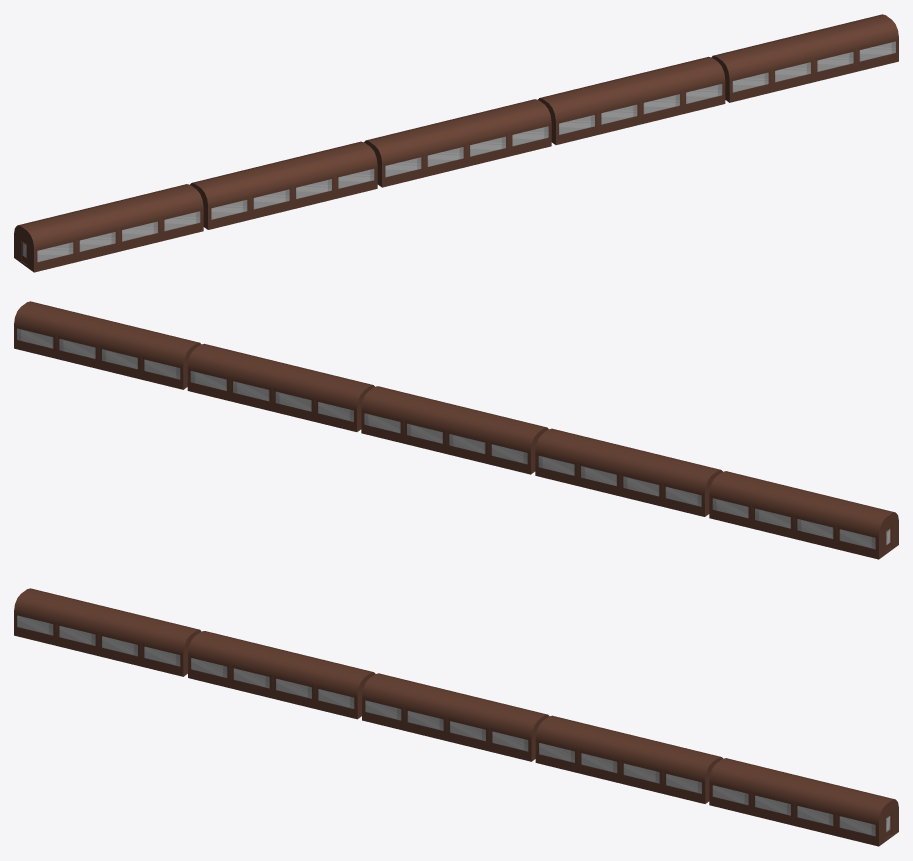
Rendered from Train.fbx.
The picture shows the model from 3 angles, top to bottom: view 1: azimuth 30°, elevation 25°; view 2: azimuth 150°, elevation 25°; view 3: azimuth 330°, elevation 25°; orthographic projection.
Visible parts, largest first — view 1: Train; view 2: Train; view 3: Train.
Boxes of the visible parts, box(x1,y1,x2,y2) form: Train: box(14, 14, 898, 272); Train: box(14, 301, 898, 559); Train: box(14, 588, 898, 846).
Size of the model in its own units: 14791 by 600 by 595.
